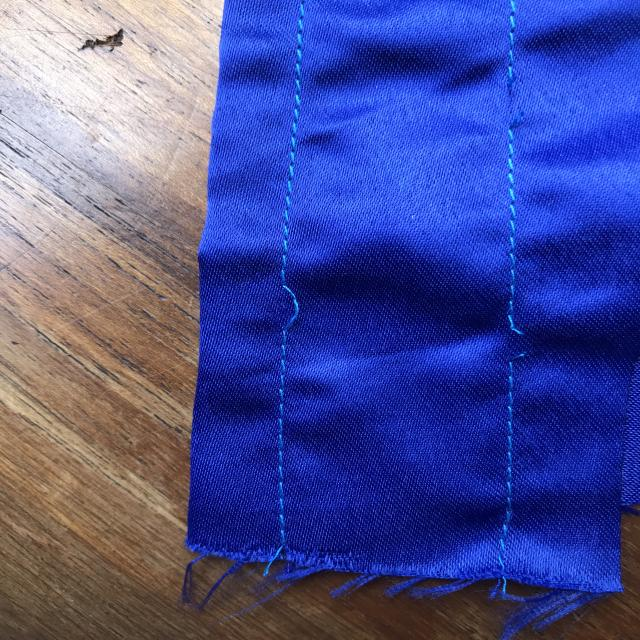broken: (493, 52, 548, 153), (484, 288, 545, 374)
good: (486, 170, 531, 257)
skip: (258, 262, 312, 338)
